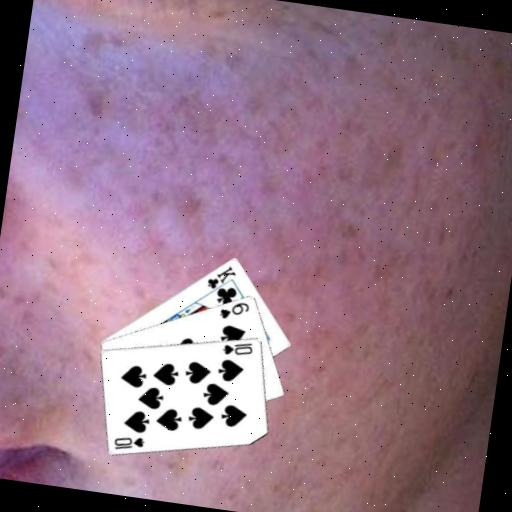10S: (220, 336, 256, 360), (111, 431, 147, 455)
6S: (217, 296, 252, 324)
KC: (203, 260, 240, 299)
